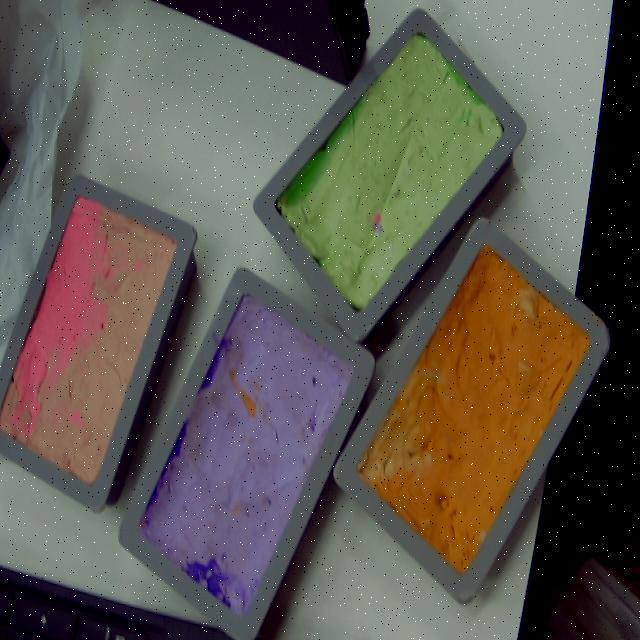block: (332, 221, 612, 611), (117, 267, 372, 640), (255, 8, 527, 343), (0, 173, 199, 515)
